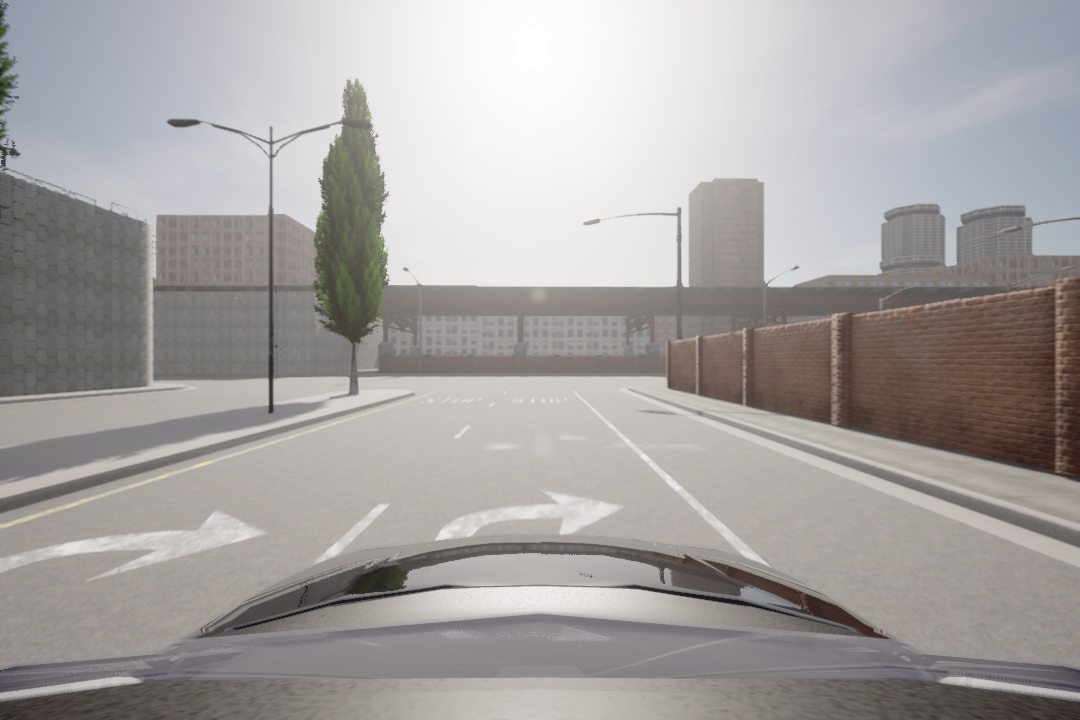RoadSign_right: (2, 513, 270, 598), (436, 484, 639, 550)
